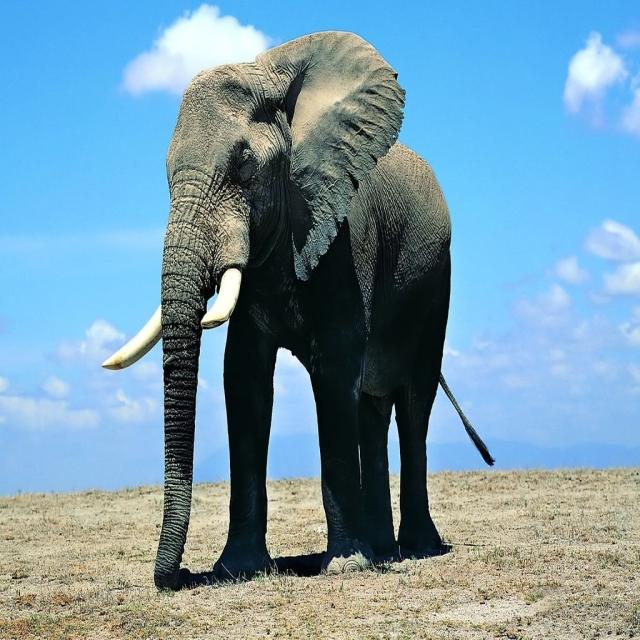Elephant: (100, 28, 496, 592)
